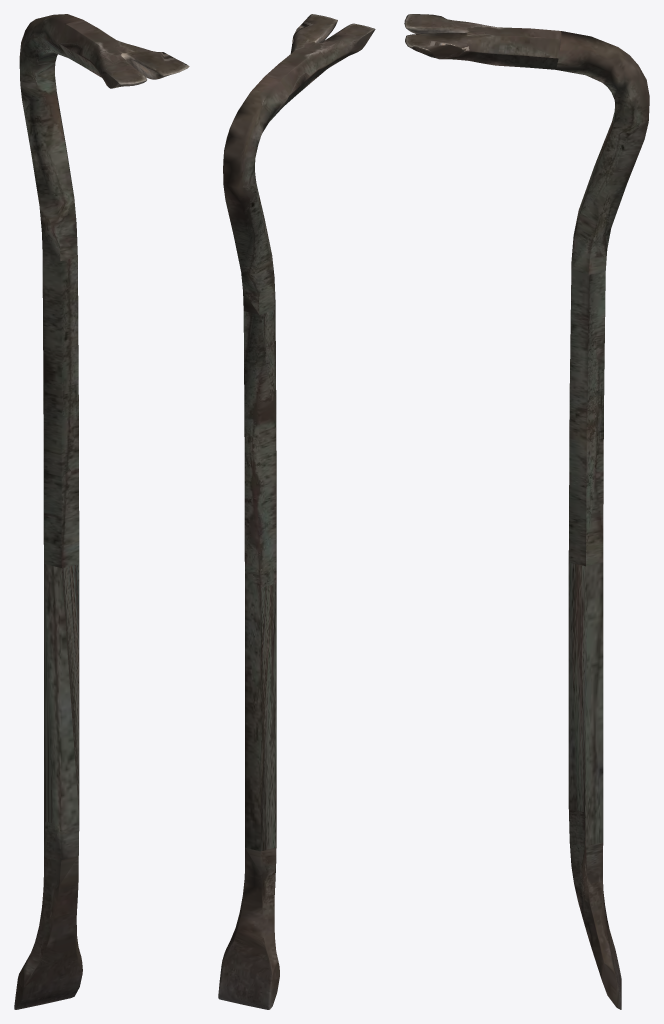
File: crowbar-01.glb
3 views of the same model, side by side, from view 1: azimuth 30°, elevation 25°; view 2: azimuth 150°, elevation 25°; view 3: azimuth 270°, elevation 25° (orthographic). The views are drawn at different scales.
Visible parts, largest first — view 1: crowbar_01; view 2: crowbar_01; view 3: crowbar_01.
Part boxes in pixels (x1,y1,x2,y2): crowbar_01: (14, 14, 189, 1009); crowbar_01: (218, 14, 375, 1009); crowbar_01: (404, 14, 649, 1009).
Size of the model in its own units: 0.0404 by 0.5554 by 0.1276.
1 material, 1 textured.
